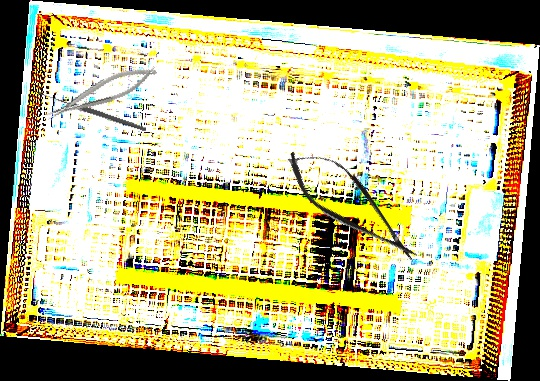Micro Scissor: (274, 133, 432, 278)
Needle Holder: (41, 59, 161, 126)
Surgical Spoon: (37, 89, 147, 133)
